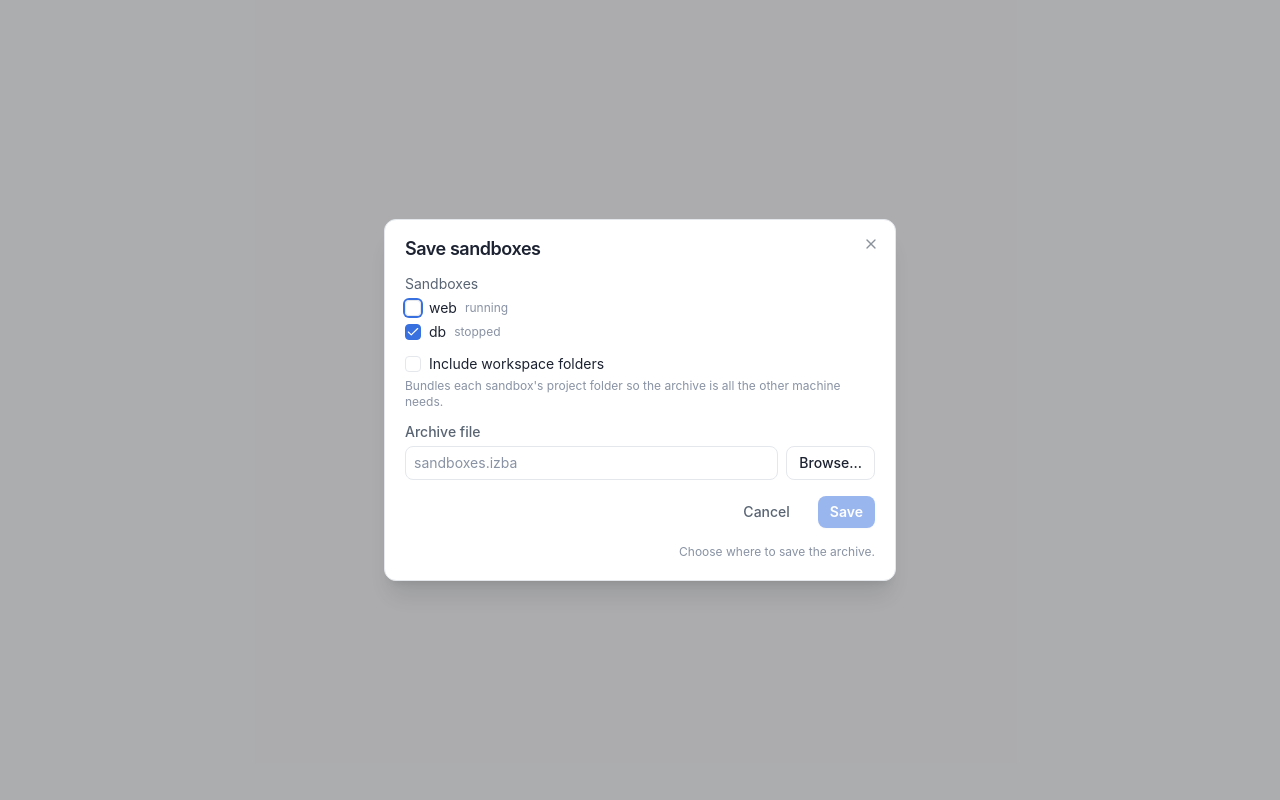
Test: SaveArchive › offers the stop option only while a running sandbox is selected
Expected: the checkbox labelled "stop running sandboxes" is not shown
Click the checkbox named "Save web". click: (413, 308)
box: [405, 300, 421, 316]
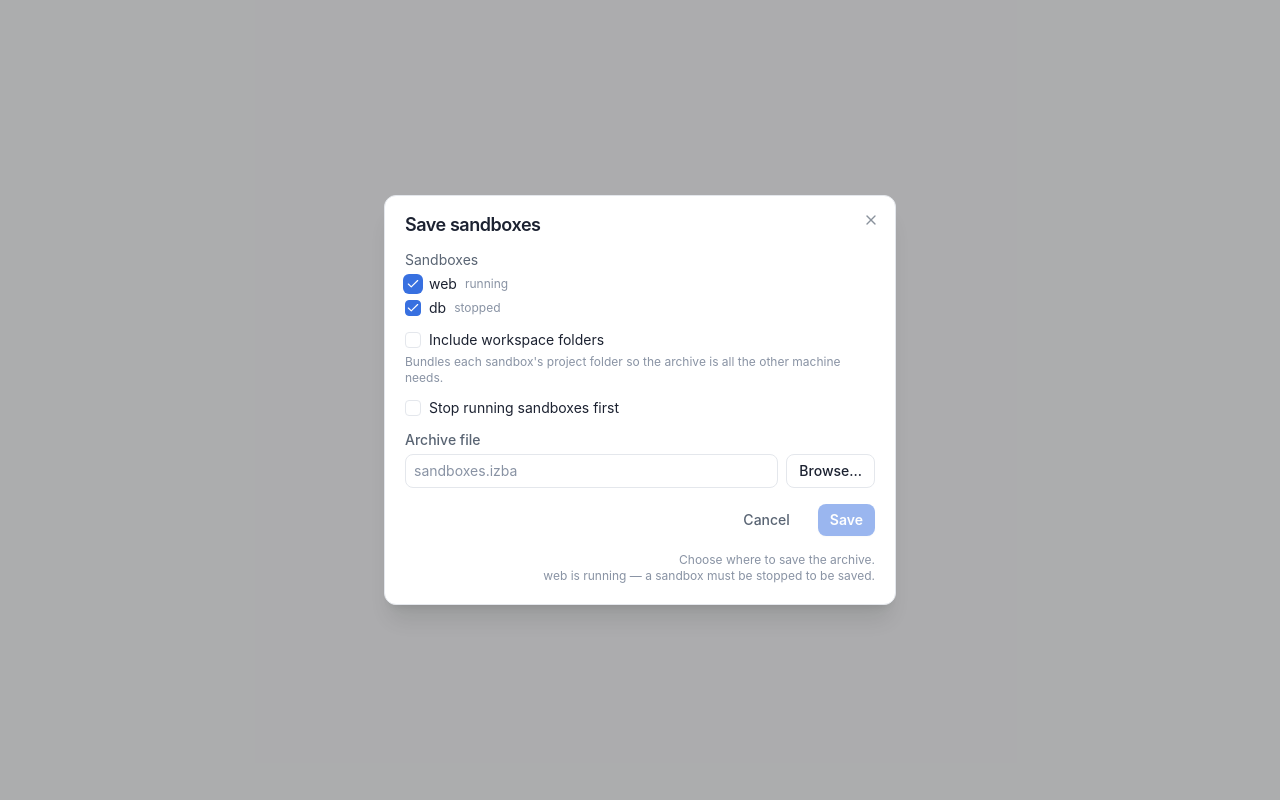
Expected: the checkbox named "stop running sandboxes" is shown, [405, 400, 421, 416]
